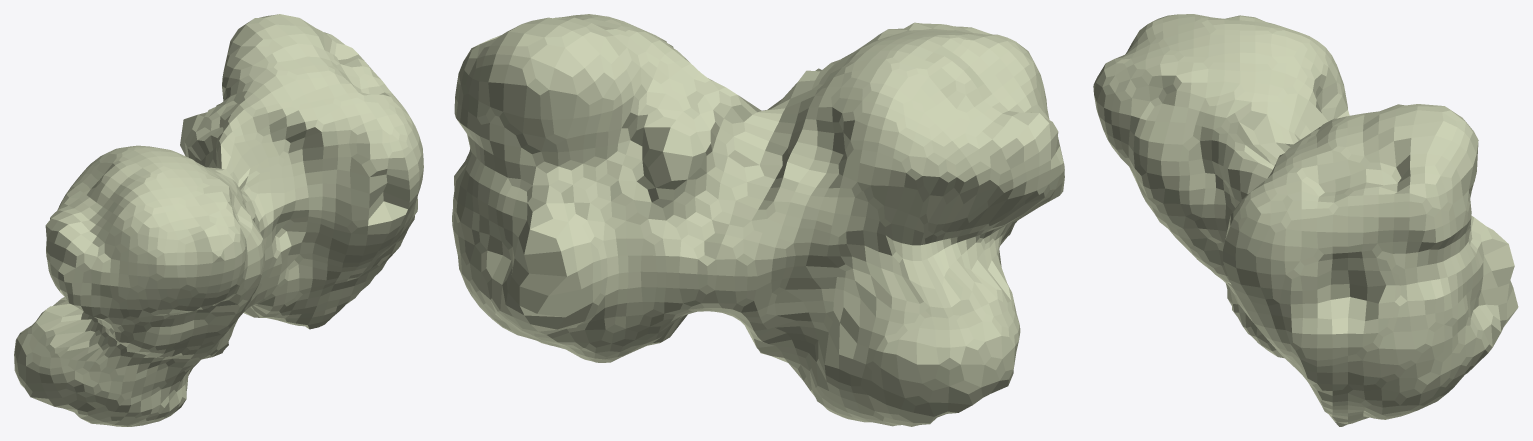
Rendered from alternativeKleopatra.obj.
The picture shows the model from 3 angles, left to right: view 1: azimuth 30°, elevation 25°; view 2: azimuth 150°, elevation 25°; view 3: azimuth 270°, elevation 25°; orthographic projection. The views are drawn at different scales.
Visible parts, largest first — view 1: mesh_0; view 2: mesh_0; view 3: mesh_0.
Boxes of the visible parts, <box> form: mesh_0: <box>14,14,423,426</box>; mesh_0: <box>452,14,1064,426</box>; mesh_0: <box>1093,14,1518,426</box>.
Size of the model in its own units: 42.13 by 31.08 by 34.91.
